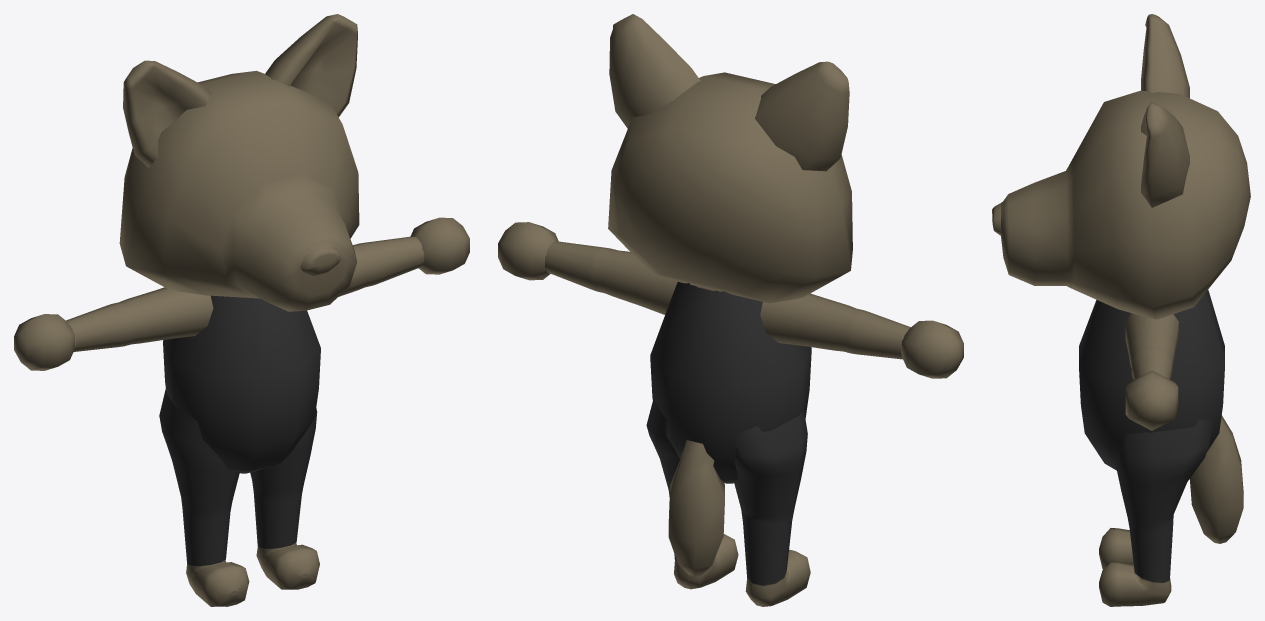
The model's file is wolf_girl.fbx.
3 views of the same model, side by side, from view 1: azimuth 30°, elevation 25°; view 2: azimuth 150°, elevation 25°; view 3: azimuth 270°, elevation 25° (orthographic). The views are drawn at different scales.
Parts seen in each view (by area): view 1: Wolf_Geo; view 2: Wolf_Geo; view 3: Wolf_Geo.
Part boxes in pixels (x1=…): Wolf_Geo: x1=14, y1=14, x2=469, y2=606; Wolf_Geo: x1=498, y1=14, x2=963, y2=606; Wolf_Geo: x1=992, y1=14, x2=1250, y2=606.
Size of the model in its own units: 7.05 by 8.14 by 3.64.
